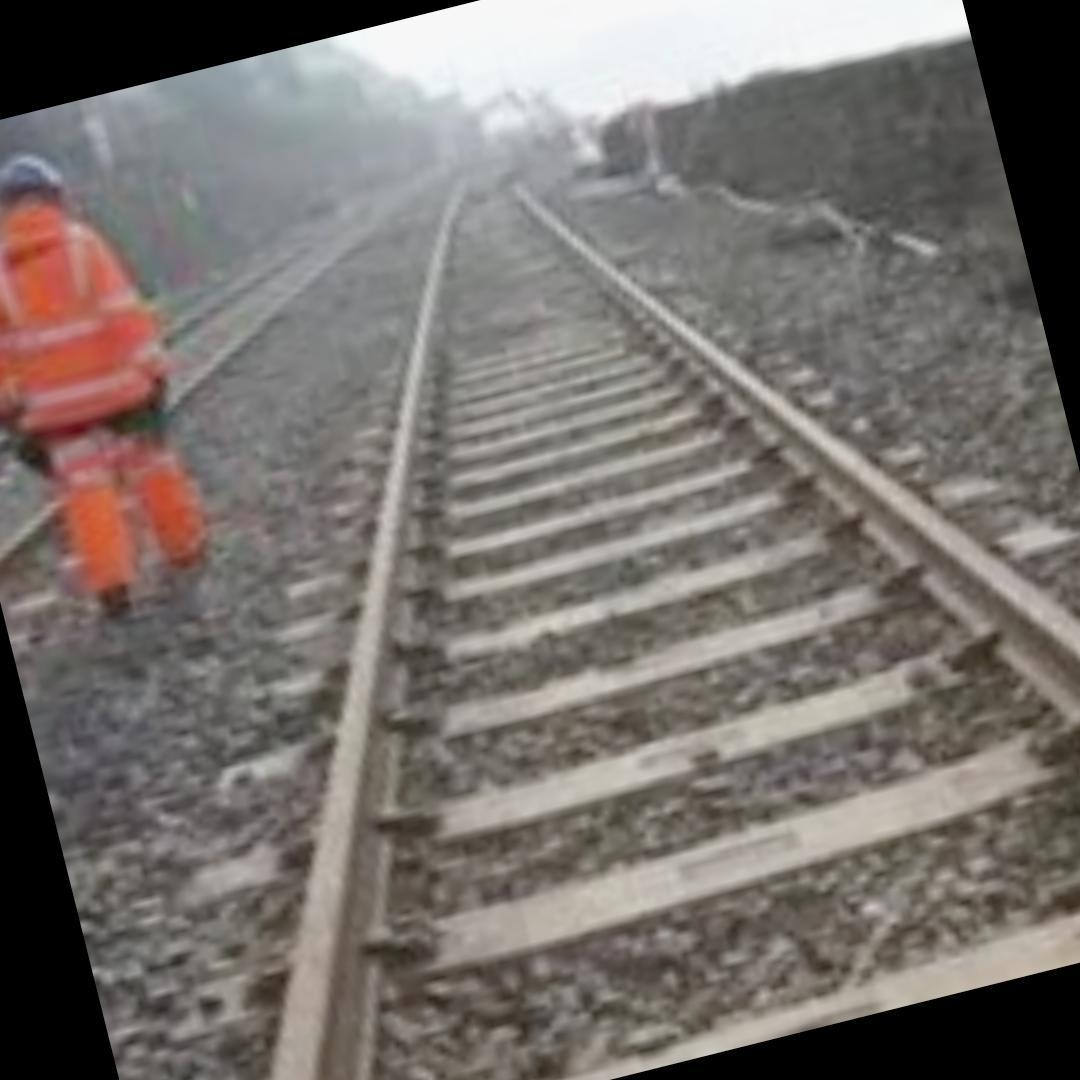standing: (0, 129, 230, 678)
track: (232, 132, 1080, 1080)
